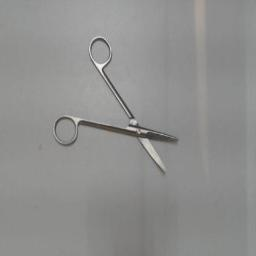Curved Mayo Scissors: (51, 32, 185, 180)
